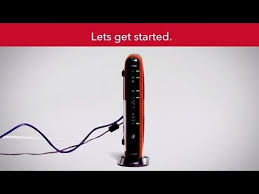Verizon Router: (112, 47, 164, 174)
